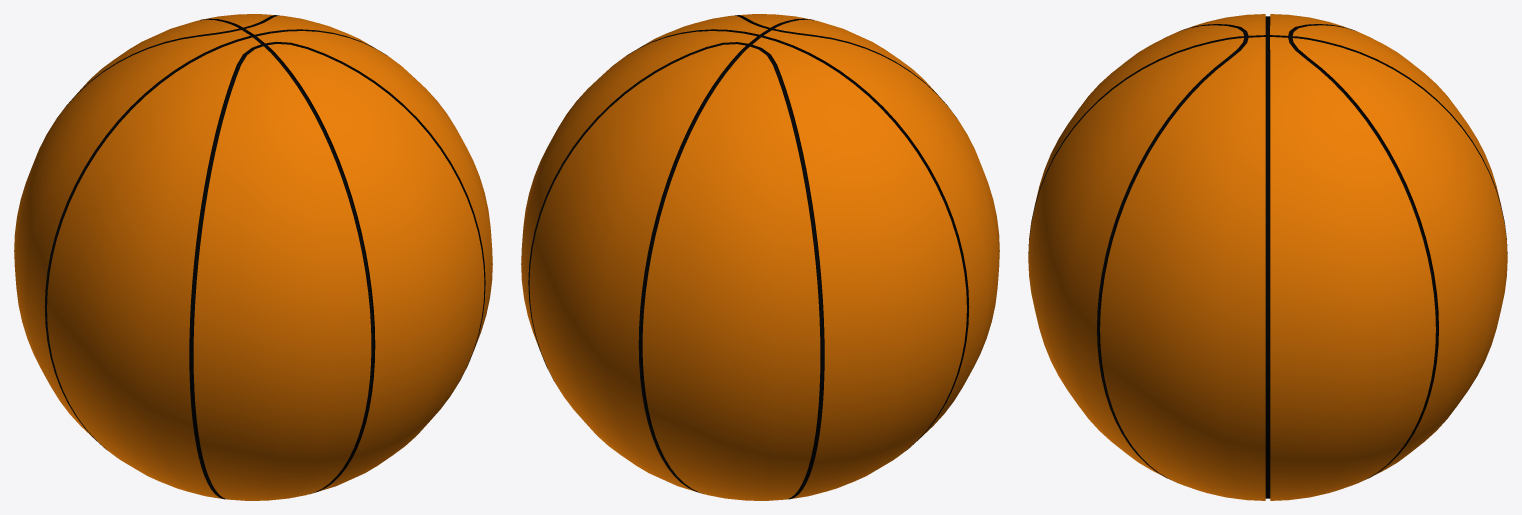
File: Basketball.fbx
3 renders of one model, left to right at view 1: azimuth 30°, elevation 25°; view 2: azimuth 150°, elevation 25°; view 3: azimuth 270°, elevation 25°, orthographic.
Visible parts, largest first — view 1: pSphere1; view 2: pSphere1; view 3: pSphere1.
Boxes of the visible parts, x1,y1,x2,y2 form: pSphere1: (14,14,492,500); pSphere1: (521,14,999,500); pSphere1: (1028,14,1507,500).
Bounding box in the file's own units: 1.95 × 1.99 × 1.95.
